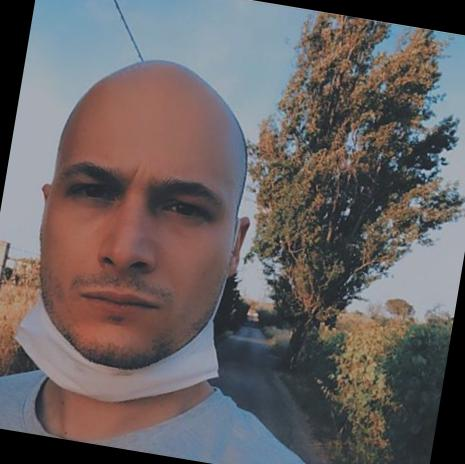mask_weared_incorrect: (23, 132, 250, 409)
